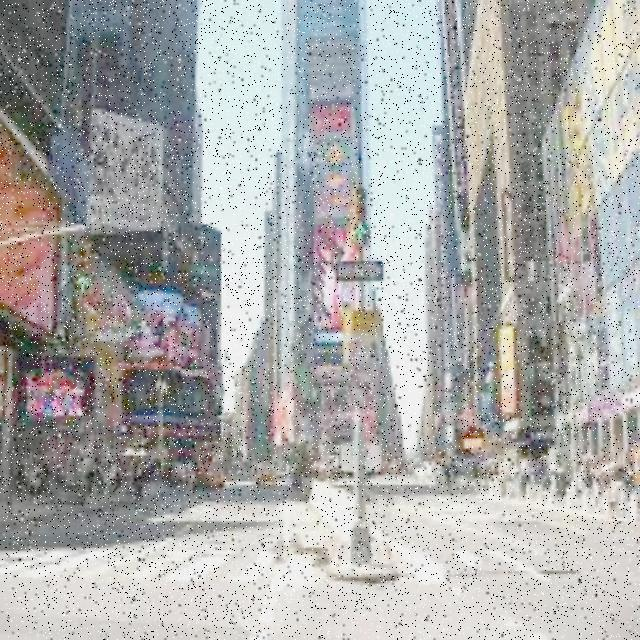crosswalk: (0, 532, 312, 584), (402, 514, 640, 581)
